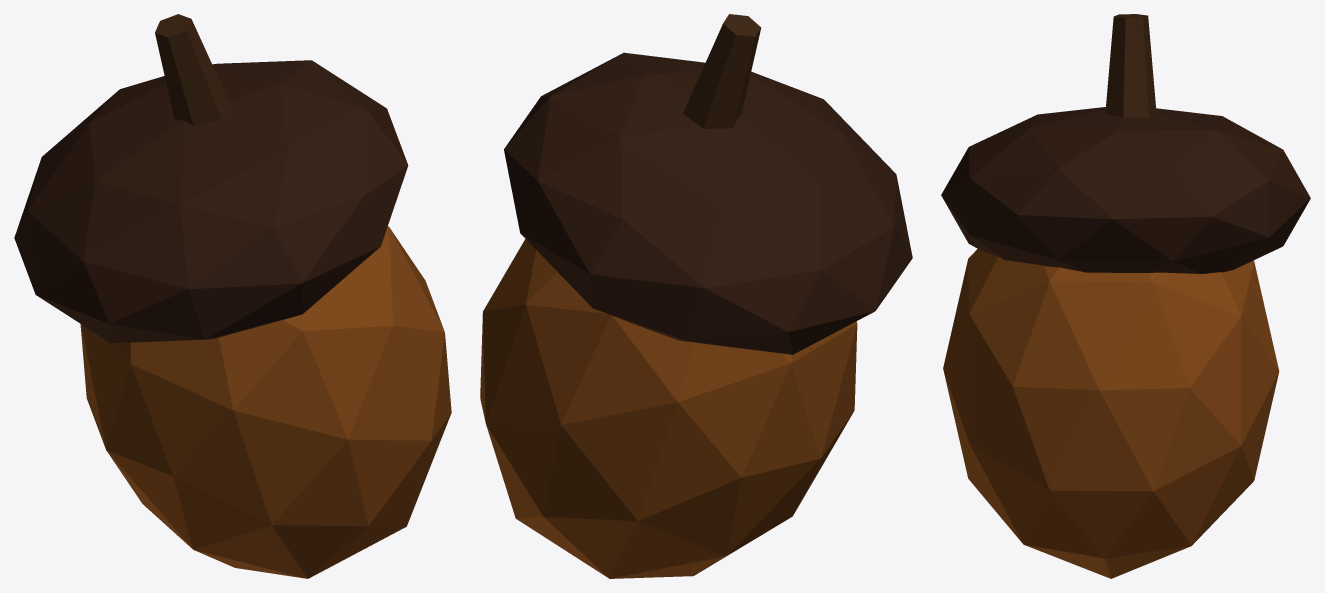
The model's file is pile-treeSeed-1.obj.
The picture shows the model from 3 angles, left to right: view 1: azimuth 30°, elevation 25°; view 2: azimuth 150°, elevation 25°; view 3: azimuth 270°, elevation 25°; orthographic projection. The views are drawn at different scales.
Visible parts, largest first — view 1: pile-treeSeed-1; view 2: pile-treeSeed-1; view 3: pile-treeSeed-1.
Part boxes in pixels (left/top/right/bottom): pile-treeSeed-1: left=14, top=14, right=451, bottom=578; pile-treeSeed-1: left=480, top=14, right=912, bottom=578; pile-treeSeed-1: left=941, top=14, right=1310, bottom=578.
Bounding box in the file's own units: 0.2312 × 0.33 × 0.2195.
1 material, 1 textured.
